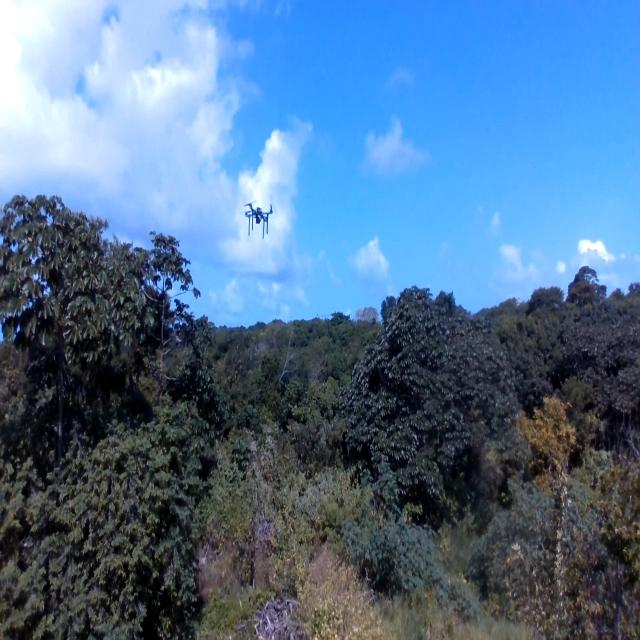-uav-: (236, 186, 278, 245)
